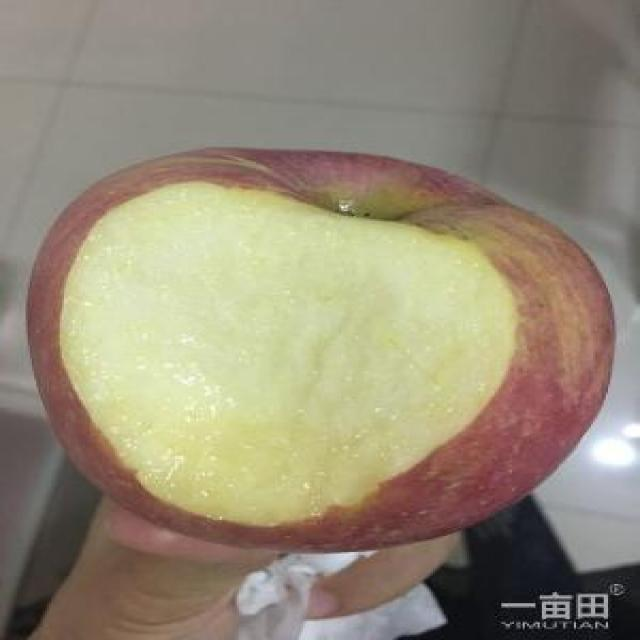Rotten: (19, 136, 627, 555)
